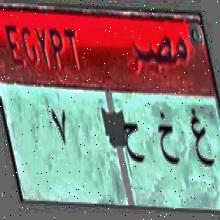7: (49, 101, 70, 157)
7aa: (123, 116, 148, 174)
ghayn: (188, 105, 217, 180)
khaa: (156, 109, 182, 181)
